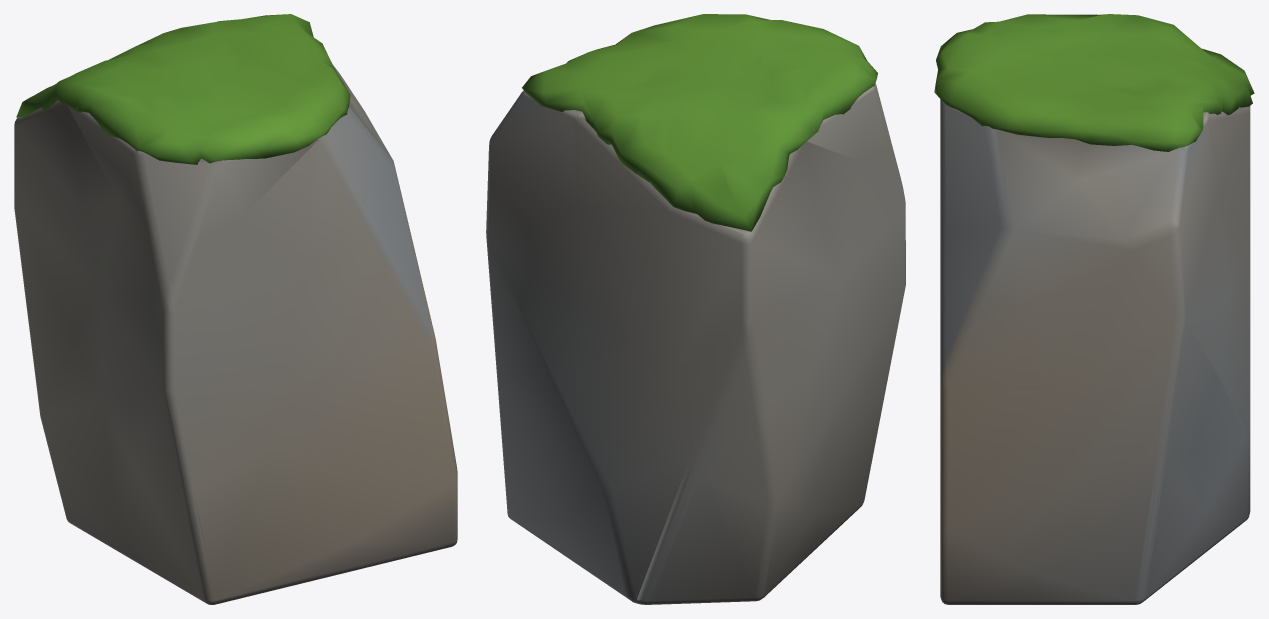
The model's file is grotto_rock_c_lod1.glb.
The picture shows the model from 3 angles, left to right: view 1: azimuth 30°, elevation 25°; view 2: azimuth 150°, elevation 25°; view 3: azimuth 270°, elevation 25°; orthographic projection. The views are drawn at different scales.
Parts seen in each view (by area): view 1: grotto_rock_c.001, moss.001; view 2: grotto_rock_c.001, moss.001; view 3: grotto_rock_c.001, moss.001.
Part boxes in pixels (x1,y1,x2,y2): grotto_rock_c.001: (14, 65, 457, 604); moss.001: (16, 14, 350, 164); grotto_rock_c.001: (486, 83, 905, 604); moss.001: (522, 14, 877, 231); grotto_rock_c.001: (940, 99, 1250, 604); moss.001: (934, 14, 1254, 151).
Bounding box in the file's own units: 2.63 × 3.94 × 2.48.
